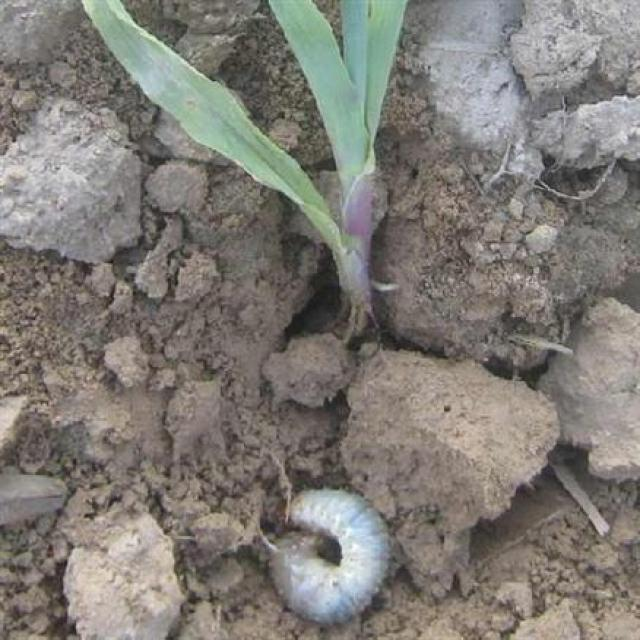Grub-Adult-: (246, 476, 410, 636)
